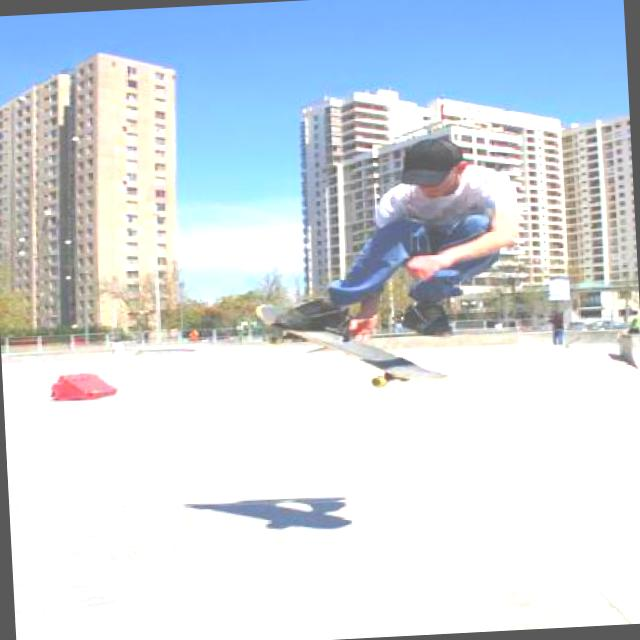Person: (258, 133, 528, 348), (552, 318, 567, 346), (108, 337, 126, 356), (490, 321, 504, 328)
